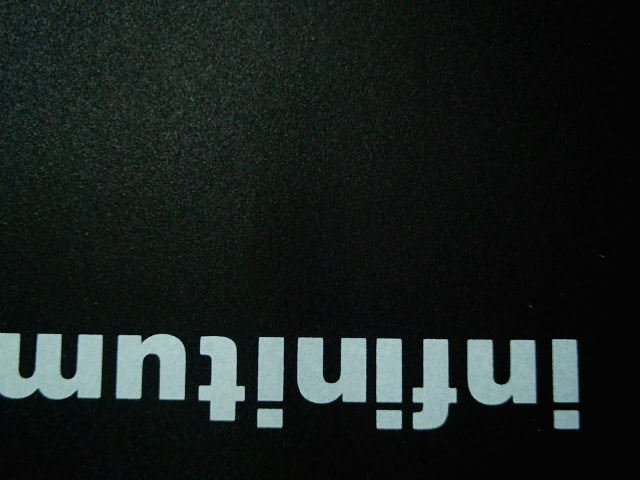BK_infinitum: (2, 328, 590, 436)
